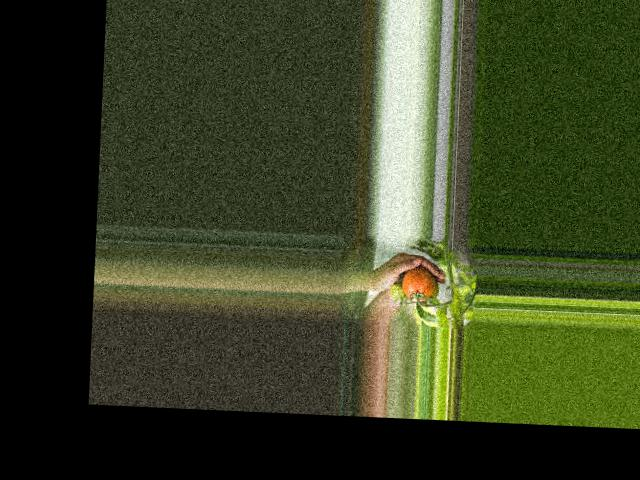tomato: (401, 266, 434, 301)
